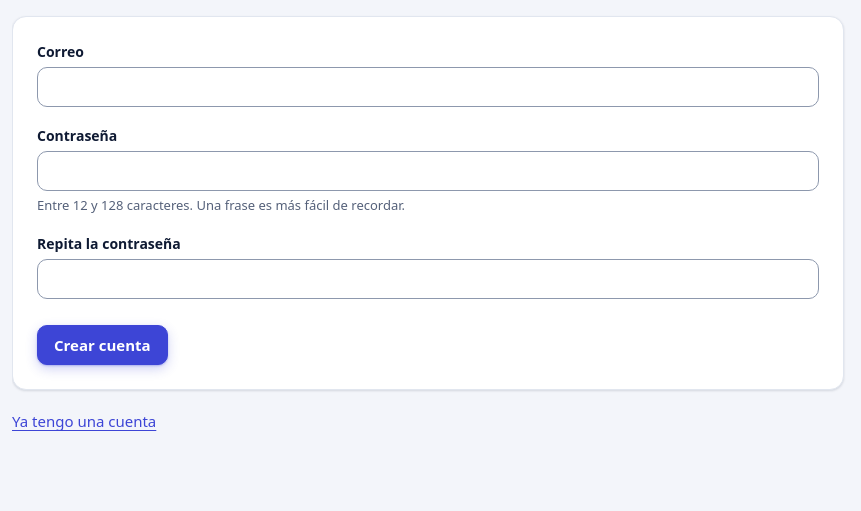
Test case: Crear una cuenta › shows the API's reason when it refuses the password
Type "ana@example.test" into the field labelled "Correo" at [428, 87], box [37,67,819,107]
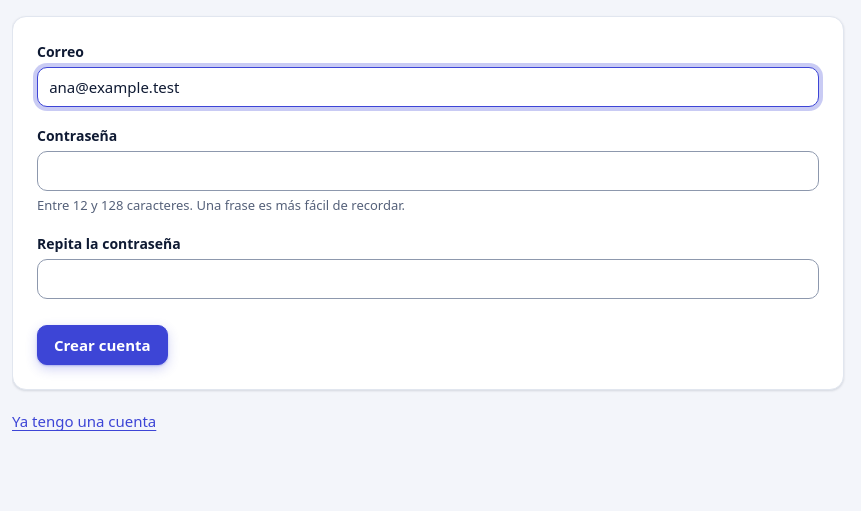
Type "ana@example.test" into the password field labelled "Contraseña" at [428, 171], box [37,151,819,191]
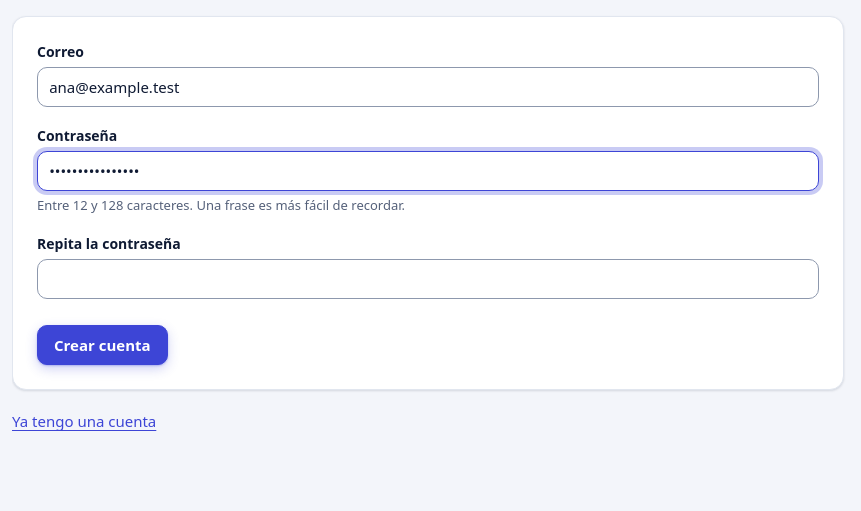
Type "ana@example.test" into the password field labelled "Repita la contraseña" at [428, 279], box [37,259,819,299]
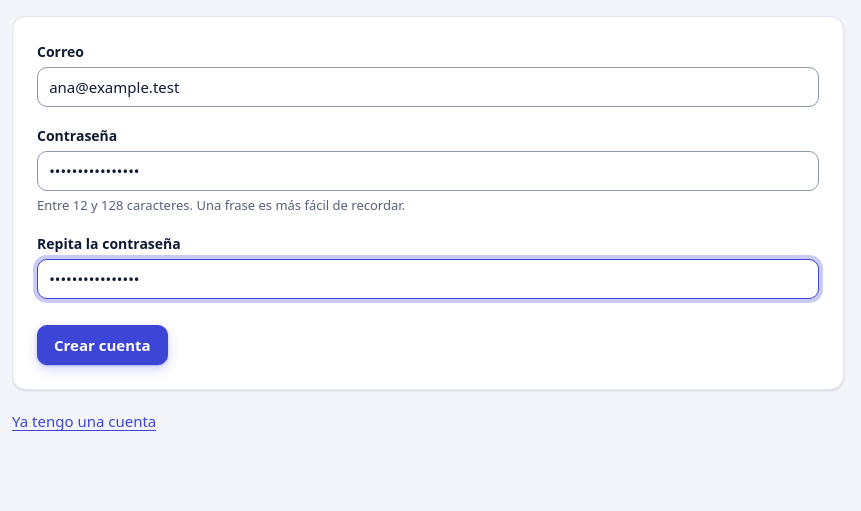
Click the button "Crear cuenta" at [102, 345], box [37,325,168,366]
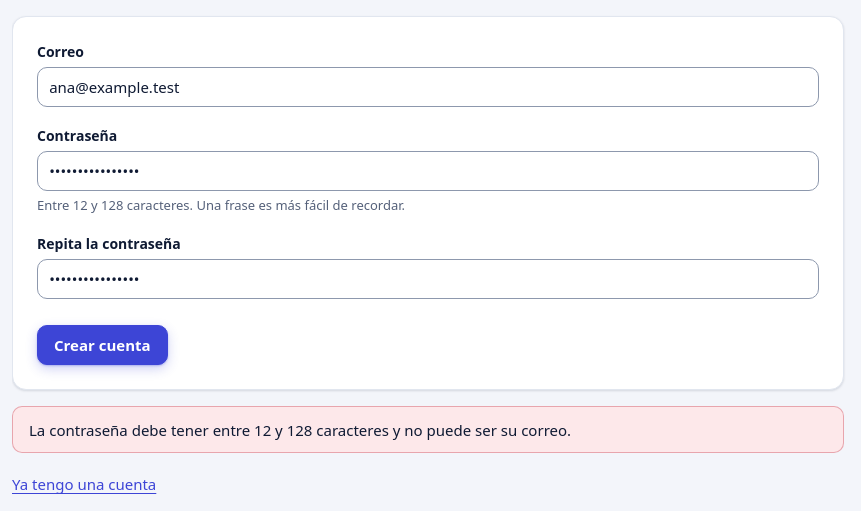
Expected: the message shows "no puede ser su correo", [29,420,571,440]
